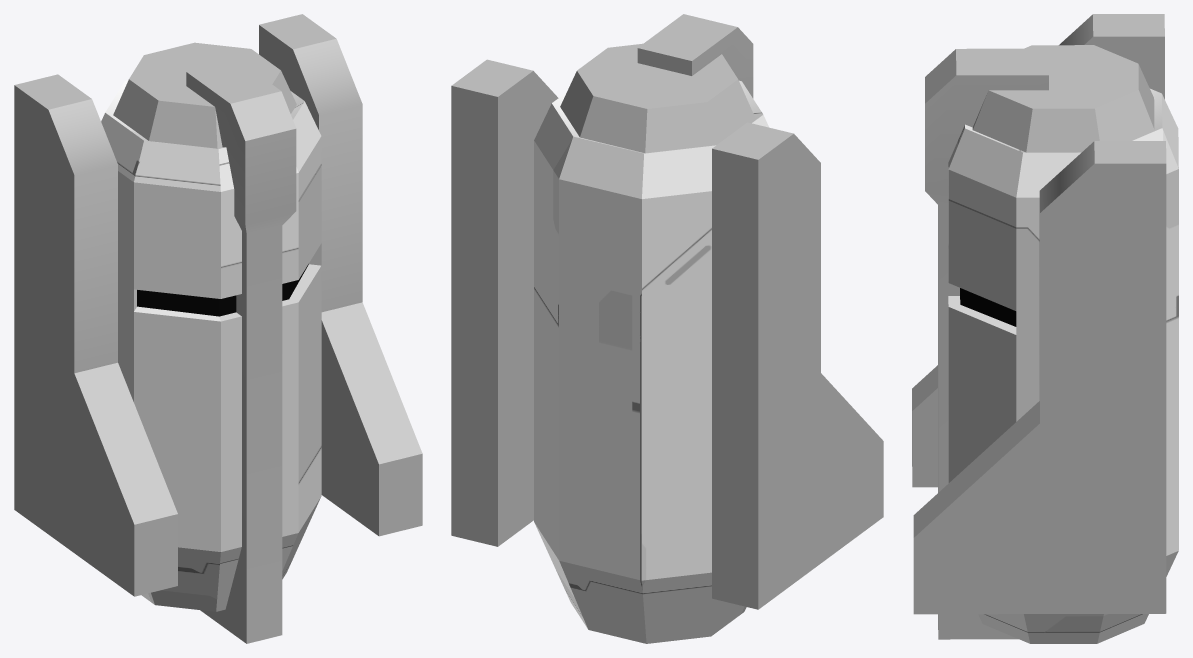
File: SM_BuildingExtra_Cylinder_2.fbx
3 renders of one model, left to right at view 1: azimuth 30°, elevation 25°; view 2: azimuth 150°, elevation 25°; view 3: azimuth 270°, elevation 25°, orthographic. The views are drawn at different scales.
Visible parts, largest first — view 1: SM_BuildingExtra_Cylinder_2; view 2: SM_BuildingExtra_Cylinder_2; view 3: SM_BuildingExtra_Cylinder_2.
Part boxes in pixels (left/top/right/bottom): SM_BuildingExtra_Cylinder_2: left=14, top=14, right=422, bottom=643; SM_BuildingExtra_Cylinder_2: left=451, top=14, right=883, bottom=643; SM_BuildingExtra_Cylinder_2: left=912, top=14, right=1178, bottom=643.
Size of the model in its own units: 238 by 420 by 179.
